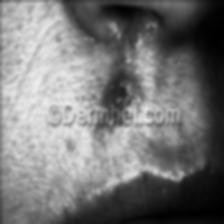Toxin: (100, 57, 140, 106)
